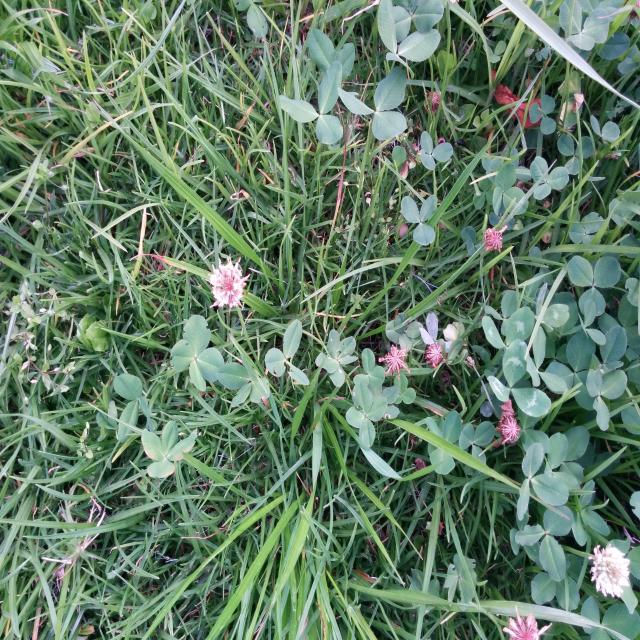Four Leaf Clover: (171, 317, 223, 391), (141, 420, 197, 478), (346, 387, 386, 447), (315, 329, 358, 383)
